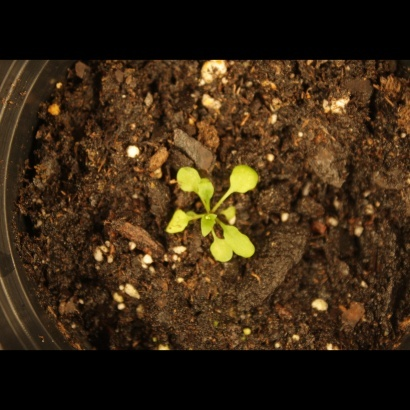leaf: (221, 221, 260, 260), (227, 163, 264, 195), (196, 172, 219, 210), (163, 206, 190, 238), (173, 164, 200, 194), (209, 236, 234, 268), (218, 201, 241, 224), (198, 214, 221, 237)
